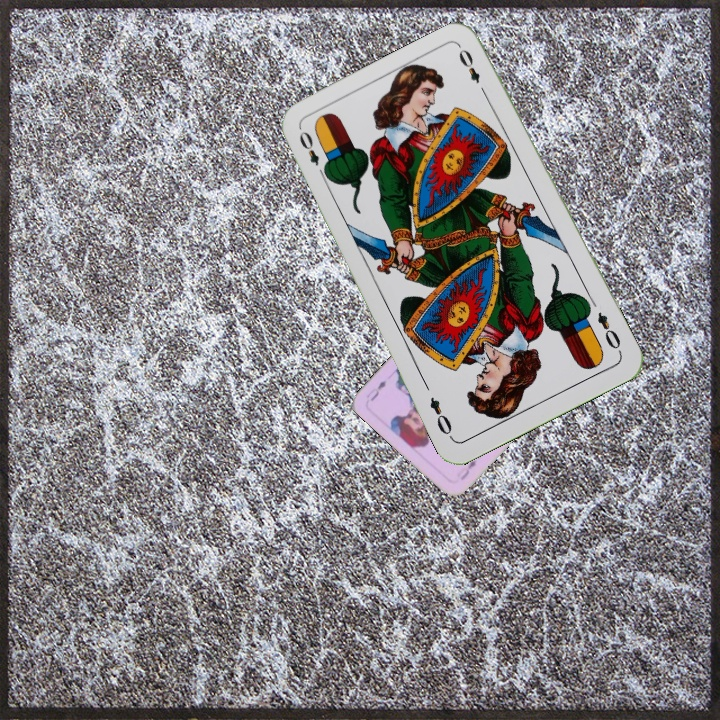EO: (295, 127, 329, 181), (593, 308, 625, 356)
EU: (452, 455, 479, 483)
